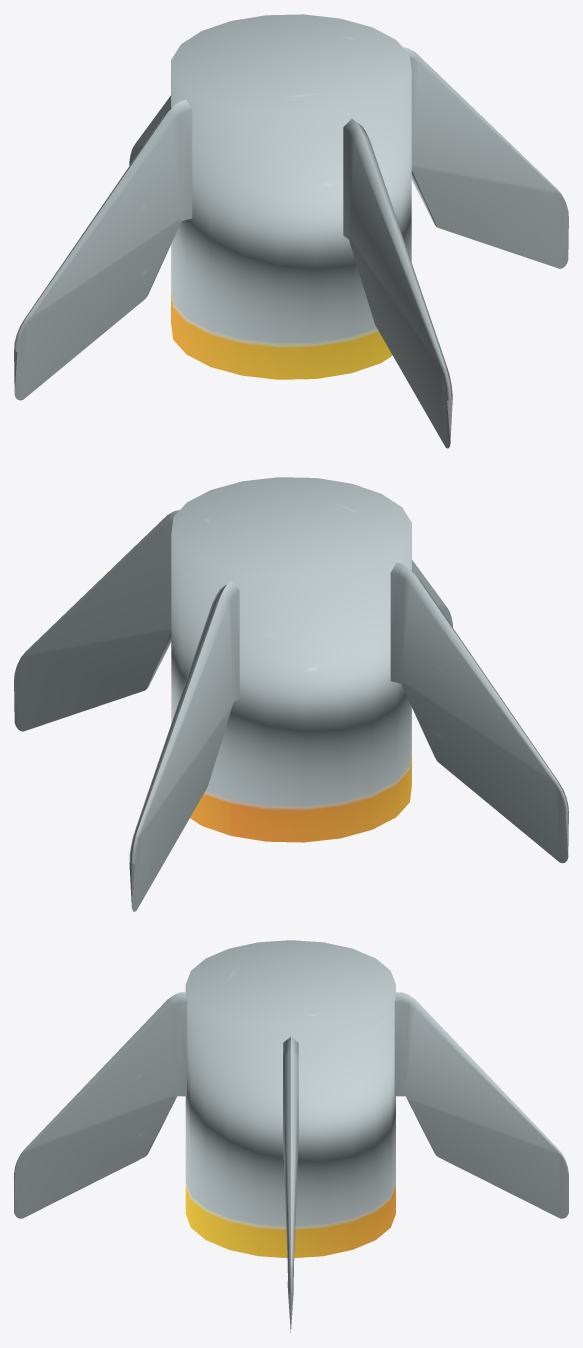
3 renders of one model, top to bottom at view 1: azimuth 30°, elevation 25°; view 2: azimuth 150°, elevation 25°; view 3: azimuth 270°, elevation 25°, orthographic. The views are drawn at different scales.
Visible parts, largest first — view 1: P3; view 2: P3; view 3: P3.
Boxes of the visible parts, x1,y1,x2,y2 form: P3: (14, 14, 568, 448); P3: (14, 477, 568, 911); P3: (14, 940, 568, 1332).
Bounding box in the file's own units: 37.02 × 17.2 × 36.95.
1 material, 1 textured.
